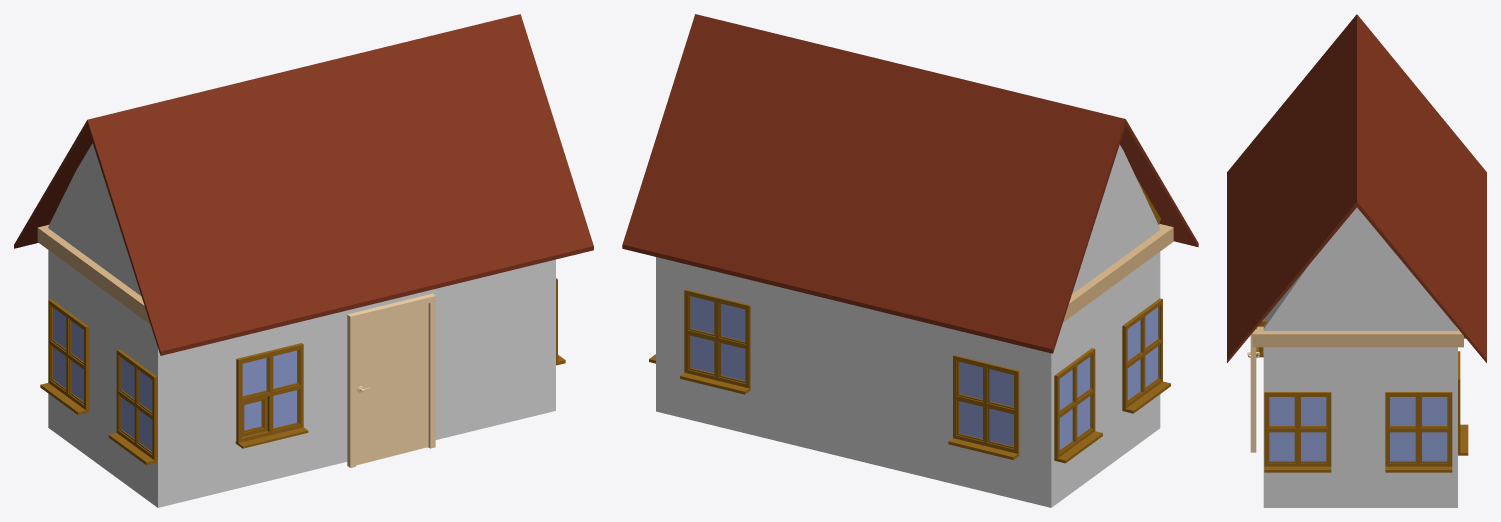
The model's file is house.fbx.
3 views of the same model, side by side, from view 1: azimuth 30°, elevation 25°; view 2: azimuth 150°, elevation 25°; view 3: azimuth 270°, elevation 25° (orthographic). The views are drawn at different scales.
Parts seen in each view (by area): view 1: Cube.001, Cube.002, Door, Window, DoorFrame, Cube.009, Window.004, Window.005, Floor, Cube.003, Cube.004; view 2: Cube.001, Cube.002, Cube.007, Window.006, Window.007, Cube.008, Window.005, Window.004, Floor, Cube.003, Cube.004; view 3: Cube.001, Cube.002, Floor, Cube.005, Cube.006, Window.002, Window.003, DoorFrame, Window.006.
Part boxes in pixels (box(x1,y1,x2,y2)): Cube.001: box(14, 14, 593, 355); Cube.002: box(48, 143, 555, 507); Door: box(356, 304, 427, 465); Window: box(235, 343, 308, 448); DoorFrame: box(347, 293, 435, 467); Cube.009: box(242, 350, 297, 430); Window.004: box(108, 349, 157, 465); Window.005: box(40, 299, 89, 415); Floor: box(37, 225, 150, 324); Cube.003: box(121, 357, 152, 451); Cube.004: box(53, 307, 83, 401); Cube.001: box(622, 14, 1198, 353); Cube.002: box(656, 144, 1160, 507); Cube.007: box(690, 296, 745, 380); Window.006: box(680, 289, 750, 394); Window.007: box(948, 355, 1019, 459); Cube.008: box(959, 362, 1013, 446); Window.005: box(1054, 348, 1102, 463); Window.004: box(1122, 298, 1170, 413); Floor: box(1063, 224, 1173, 322); Cube.003: box(1127, 307, 1158, 399); Cube.004: box(1059, 357, 1090, 449); Cube.001: box(1227, 14, 1486, 362); Cube.002: box(1263, 207, 1457, 507); Floor: box(1252, 320, 1463, 347); Cube.005: box(1269, 397, 1326, 461); Cube.006: box(1390, 397, 1447, 461); Window.002: box(1264, 392, 1331, 472); Window.003: box(1385, 392, 1452, 472); DoorFrame: box(1250, 333, 1256, 452); Window.006: box(1458, 351, 1468, 455).
Bounding box in the file's own units: 629 × 493 × 368.
